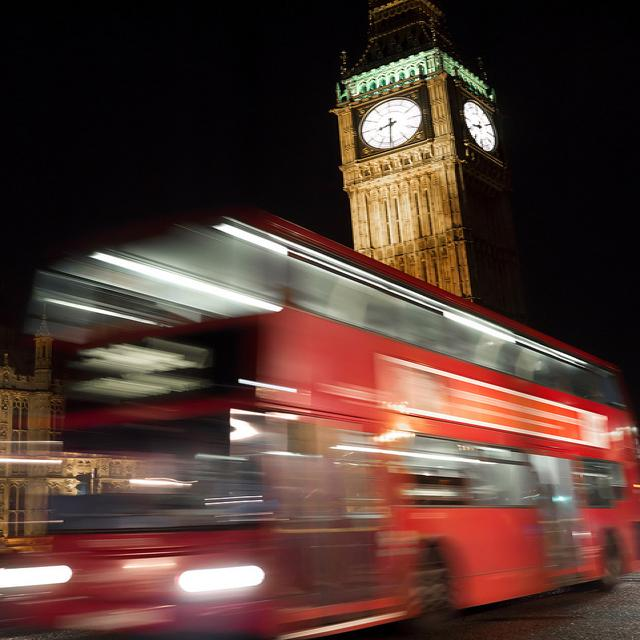Vehicle: (2, 213, 639, 640)
